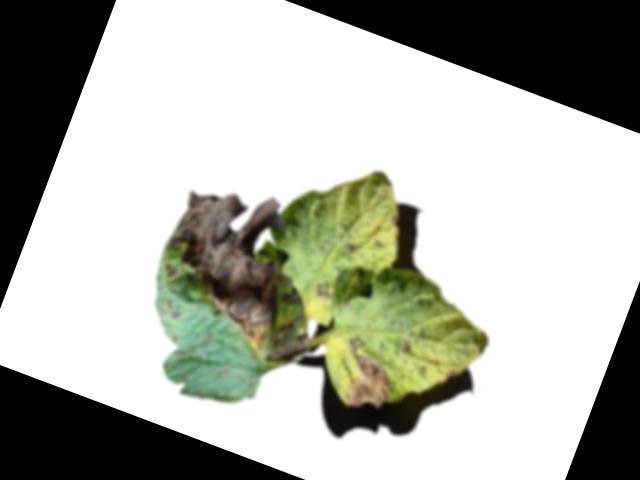Early_blight: (144, 168, 315, 349), (328, 332, 404, 418), (263, 310, 318, 373), (309, 275, 337, 302), (279, 281, 304, 306), (339, 239, 360, 257), (401, 336, 417, 354)
